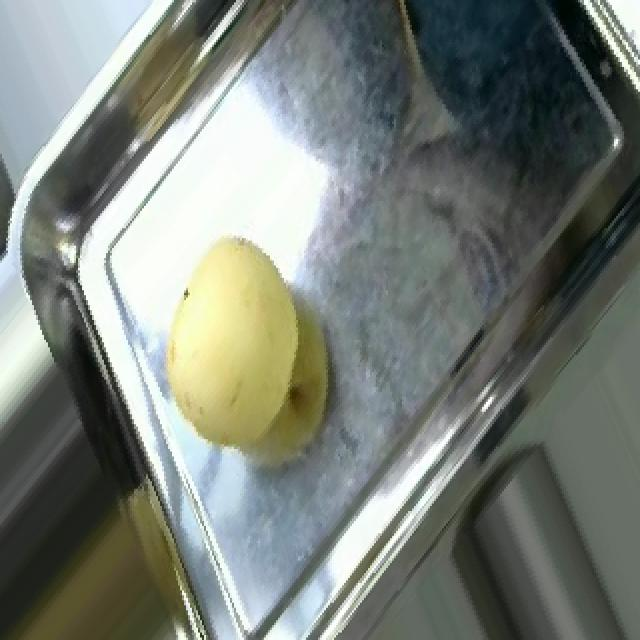Fruit: (130, 211, 322, 489), (0, 456, 230, 640)
